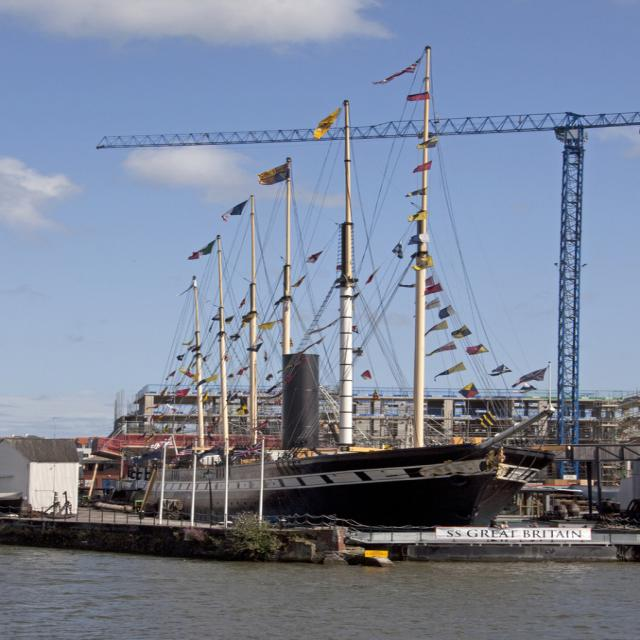Boat: (52, 63, 591, 576)
